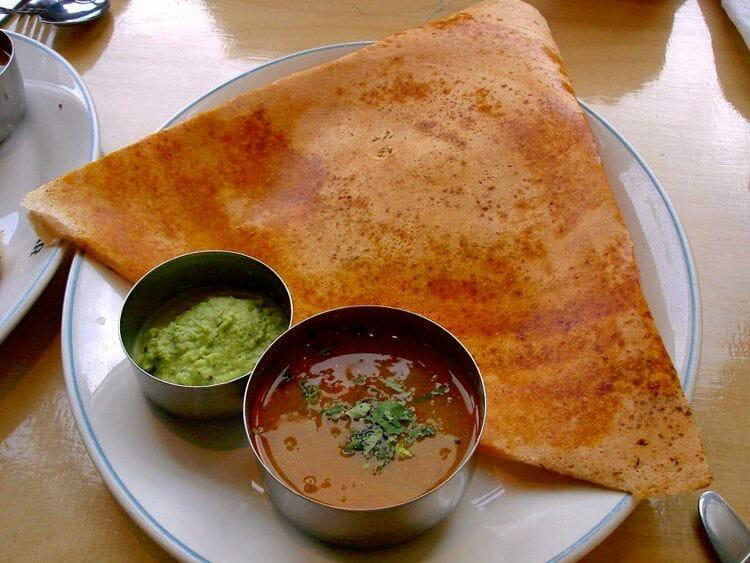Dosa: (25, 0, 716, 490)
